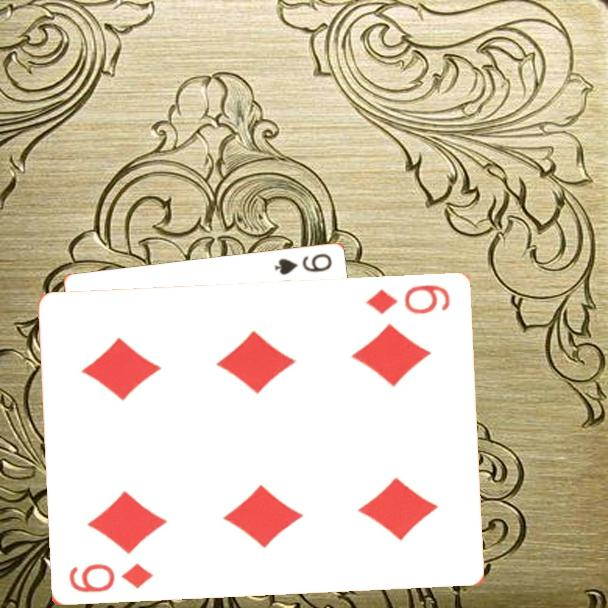d06: (361, 281, 453, 318), (65, 560, 155, 596)
s09: (271, 250, 334, 278)
